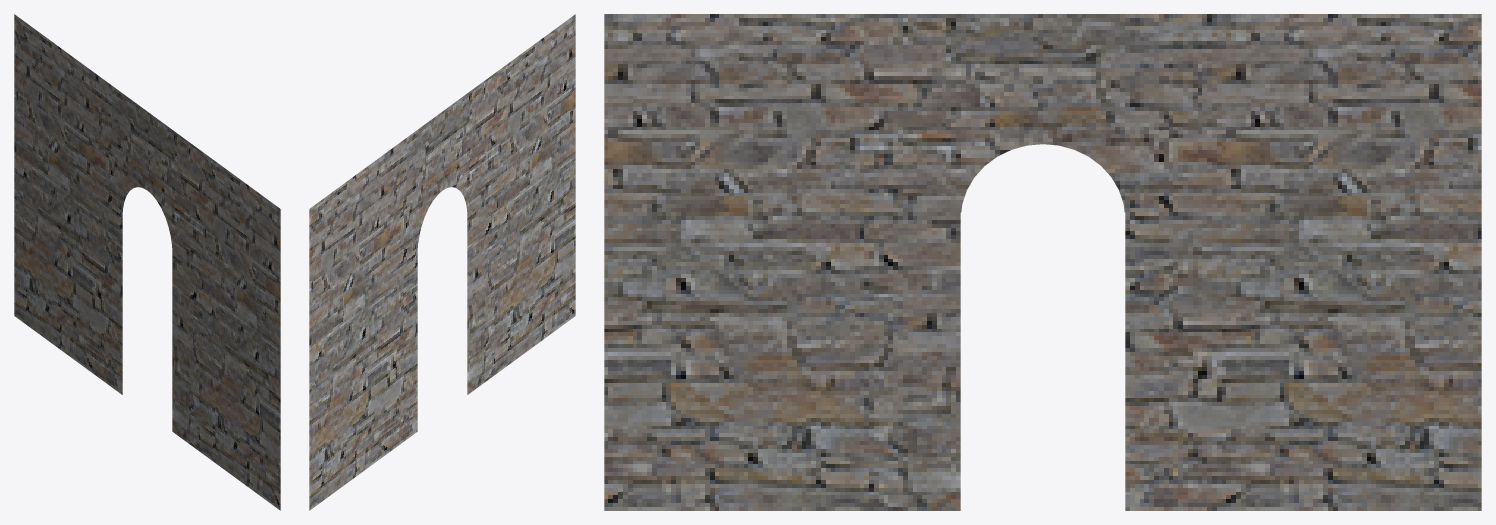
Rendered from lab_wall_hole.glb.
3 renders of one model, left to right at view 1: azimuth 30°, elevation 25°; view 2: azimuth 150°, elevation 25°; view 3: azimuth 270°, elevation 25°, orthographic. The views are drawn at different scales.
Visible parts, largest first — view 1: Piano; view 2: Piano; view 3: Piano.
Boxes of the visible parts, x1,y1,x2,y2 form: Piano: (14,14,280,510); Piano: (309,14,575,510); Piano: (604,14,1481,510).
Bounding box in the file's own units: 8.43e-07 × 5 × 8.
Materials: 1 (1 with a texture image).
